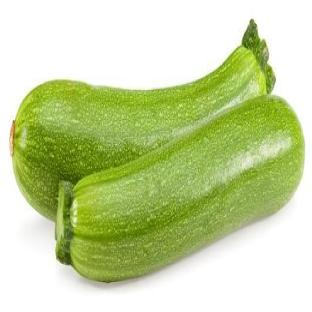Zucchini: (10, 21, 274, 219), (56, 96, 304, 281)
